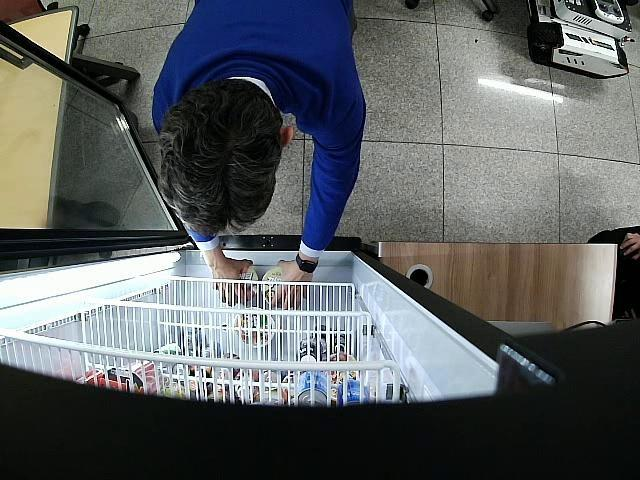03_chapagetti_L: (260, 267, 286, 308), (234, 266, 258, 304)
